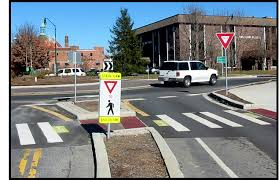yield: (215, 30, 237, 51), (103, 80, 118, 93)
